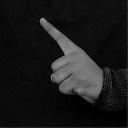hand: (38, 16, 103, 103)
